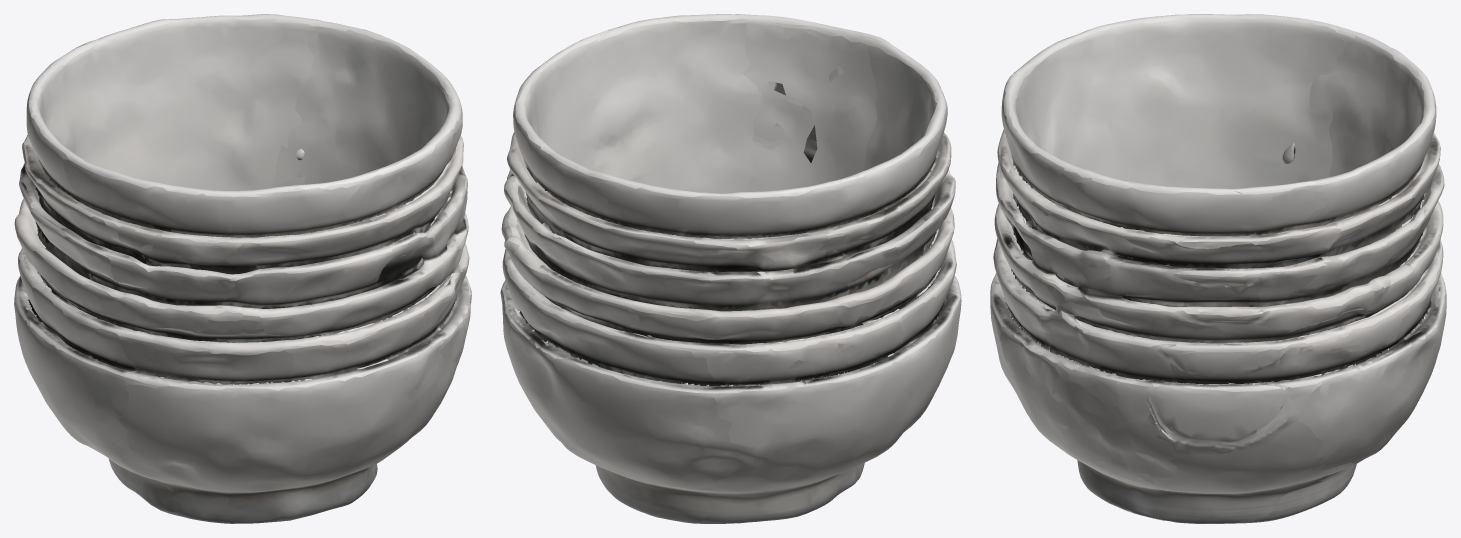
3 views of the same model, side by side, from view 1: azimuth 30°, elevation 25°; view 2: azimuth 150°, elevation 25°; view 3: azimuth 270°, elevation 25° (orthographic).
Visible parts, largest first — view 1: tmprx0relqb.ply; view 2: tmprx0relqb.ply; view 3: tmprx0relqb.ply.
Boxes of the visible parts, x1,y1,x2,y2 form: tmprx0relqb.ply: (14, 14, 471, 523); tmprx0relqb.ply: (500, 14, 961, 523); tmprx0relqb.ply: (990, 14, 1446, 523).
Bounding box in the file's own units: 196 × 177 × 196.
1 material, 1 textured.
